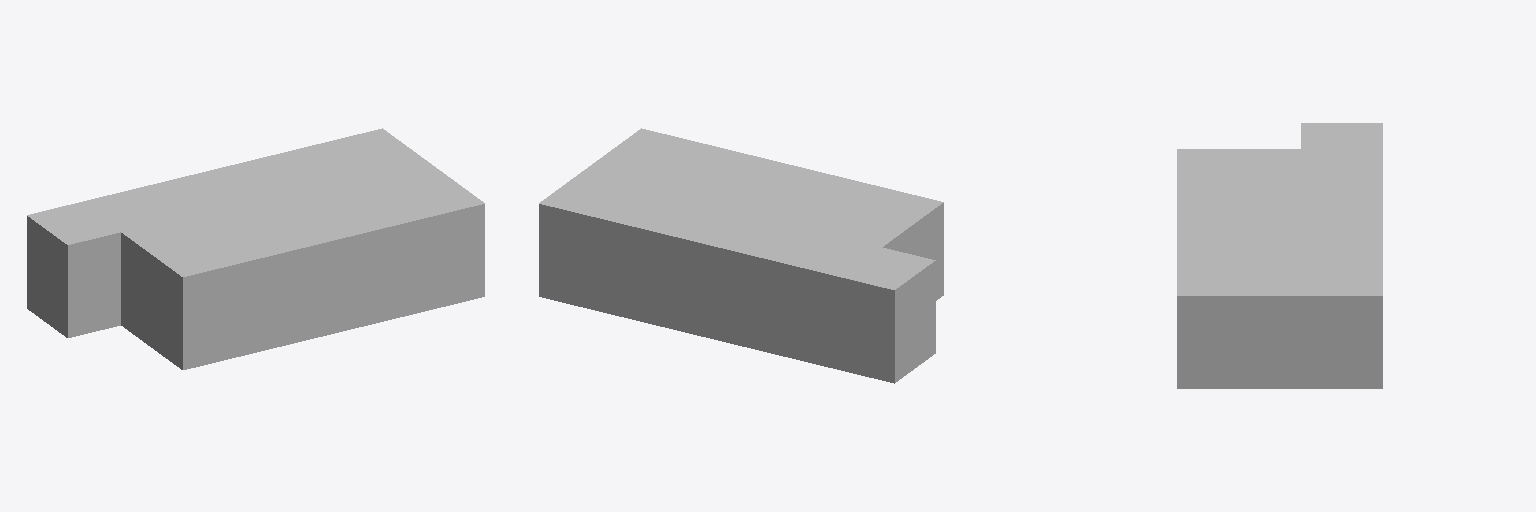
The model's file is edificio.obj.
3 views of the same model, side by side, from view 1: azimuth 30°, elevation 25°; view 2: azimuth 150°, elevation 25°; view 3: azimuth 270°, elevation 25° (orthographic).
Visible parts, largest first — view 1: teto; view 2: teto; view 3: teto.
Part boxes in pixels (bbox=[...]): teto: bbox=[27, 128, 484, 369]; teto: bbox=[539, 128, 943, 383]; teto: bbox=[1177, 123, 1382, 388].
Bounding box in the file's own units: 40 × 10 × 20.